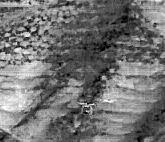Target: (77, 102, 96, 116)
